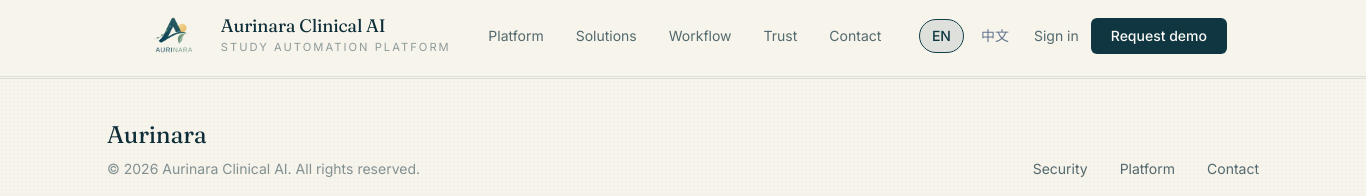
Test: Language switching integration › re-renders all text on language change without full reload
Expected: the link "Platform" next to "Solutions" is shown, x1=488 y1=26 x2=544 y2=46
Expected: the link "Solutions" is shown, x1=576 y1=26 x2=637 y2=46
Note: Switch to Chinese
Click the button "中文" at [995, 36], box x1=968 y1=19 x2=1022 y2=53
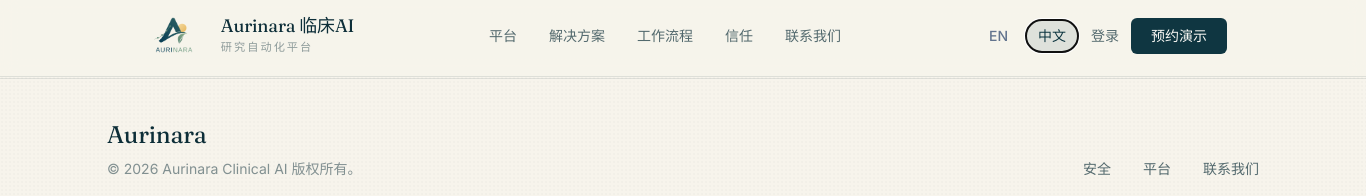
Expected: no links "platform" are shown
Expected: the link "Solutions" is gone
Expected: the link "Security" is gone
